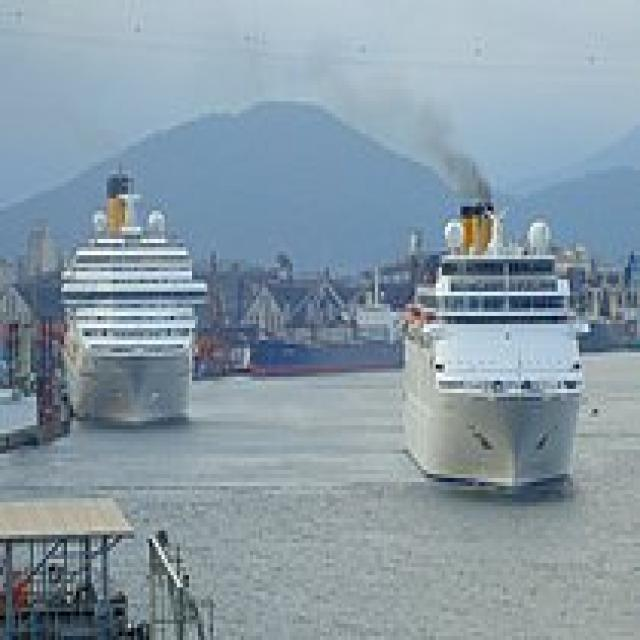Cruise: (396, 195, 582, 490), (55, 166, 210, 429)
